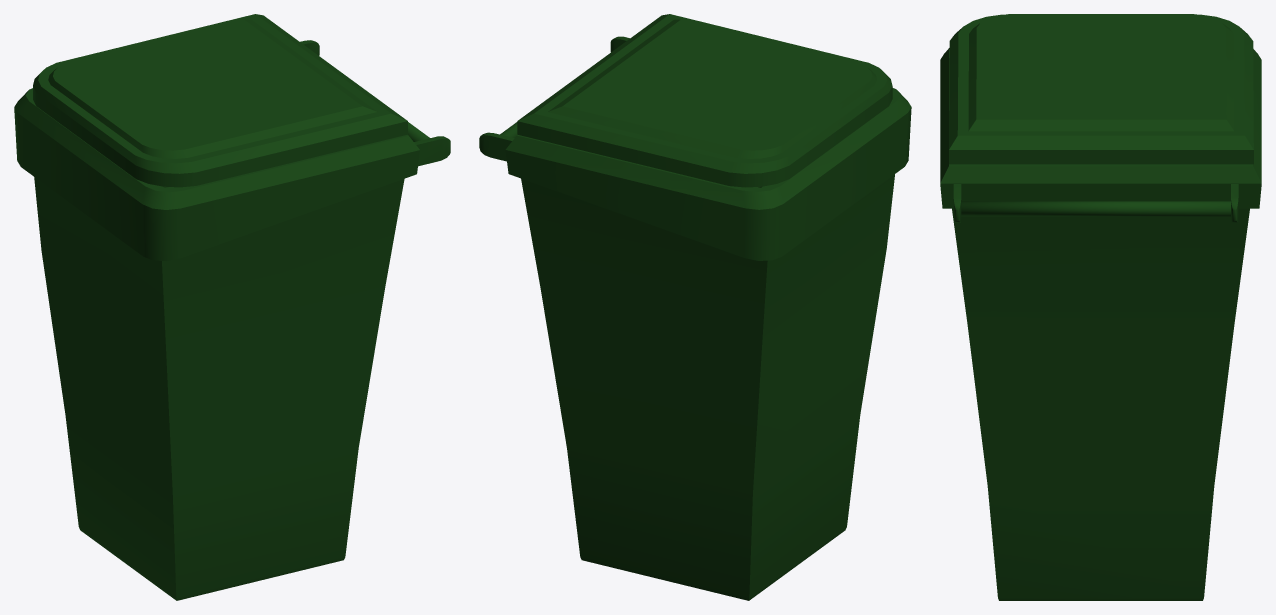
Rendered from trashcan(1).fbx.
3 renders of one model, left to right at view 1: azimuth 30°, elevation 25°; view 2: azimuth 150°, elevation 25°; view 3: azimuth 270°, elevation 25°, orthographic. The views are drawn at different scales.
Visible parts, largest first — view 1: Bin_main, Bin_lid; view 2: Bin_main, Bin_lid; view 3: Bin_main, Bin_lid.
Boxes of the visible parts, x1=… form: Bin_main: x1=14, y1=40, x2=450, y2=600; Bin_lid: x1=33, y1=14, x2=407, y2=187; Bin_main: x1=479, y1=36, x2=911, y2=600; Bin_lid: x1=517, y1=14, x2=892, y2=187; Bin_main: x1=940, y1=48, x2=1261, y2=600; Bin_lid: x1=949, y1=14, x2=1253, y2=164.
Size of the model in its own units: 151 by 220 by 132.
